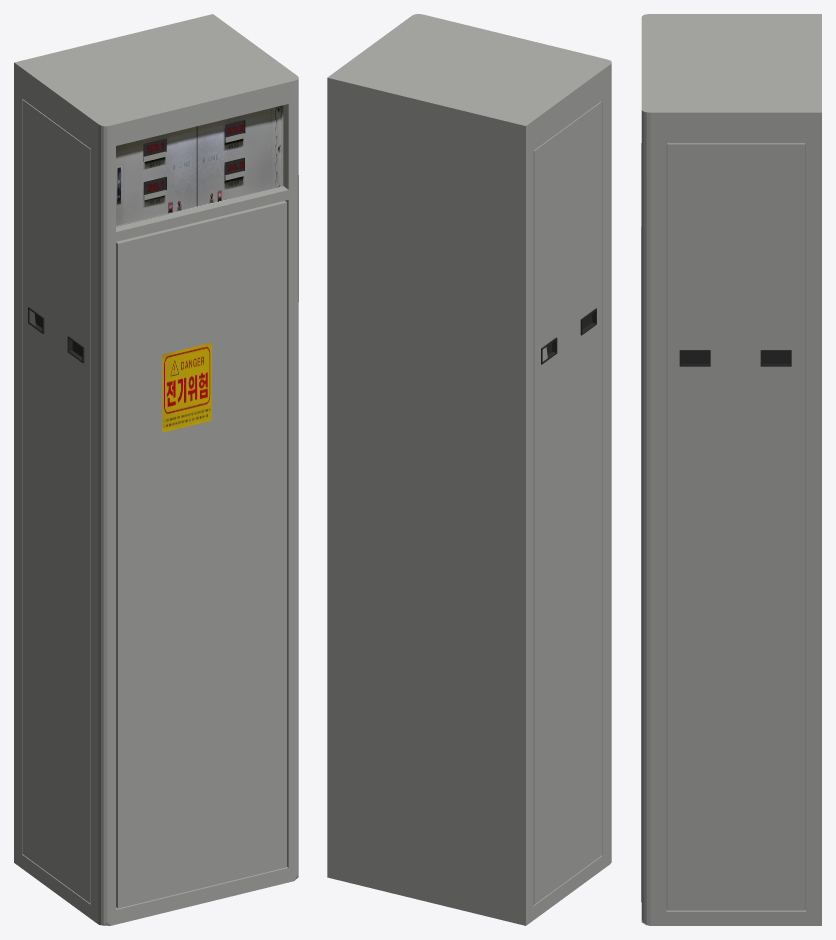
The picture shows the model from 3 angles, left to right: view 1: azimuth 30°, elevation 25°; view 2: azimuth 150°, elevation 25°; view 3: azimuth 270°, elevation 25°; orthographic projection.
Parts seen in each view (by area): view 1: PDR(직류분전반) 80회로 이중화_KRN011; view 2: PDR(직류분전반) 80회로 이중화_KRN011; view 3: PDR(직류분전반) 80회로 이중화_KRN011.
Boxes of the visible parts, x1=… form: PDR(직류분전반) 80회로 이중화_KRN011: x1=14, y1=14, x2=298, y2=925; PDR(직류분전반) 80회로 이중화_KRN011: x1=327, y1=14, x2=611, y2=925; PDR(직류분전반) 80회로 이중화_KRN011: x1=641, y1=14, x2=821, y2=925.
Bounding box in the file's own units: 0.526 × 2 × 0.4053.
5 materials, 2 textured.
